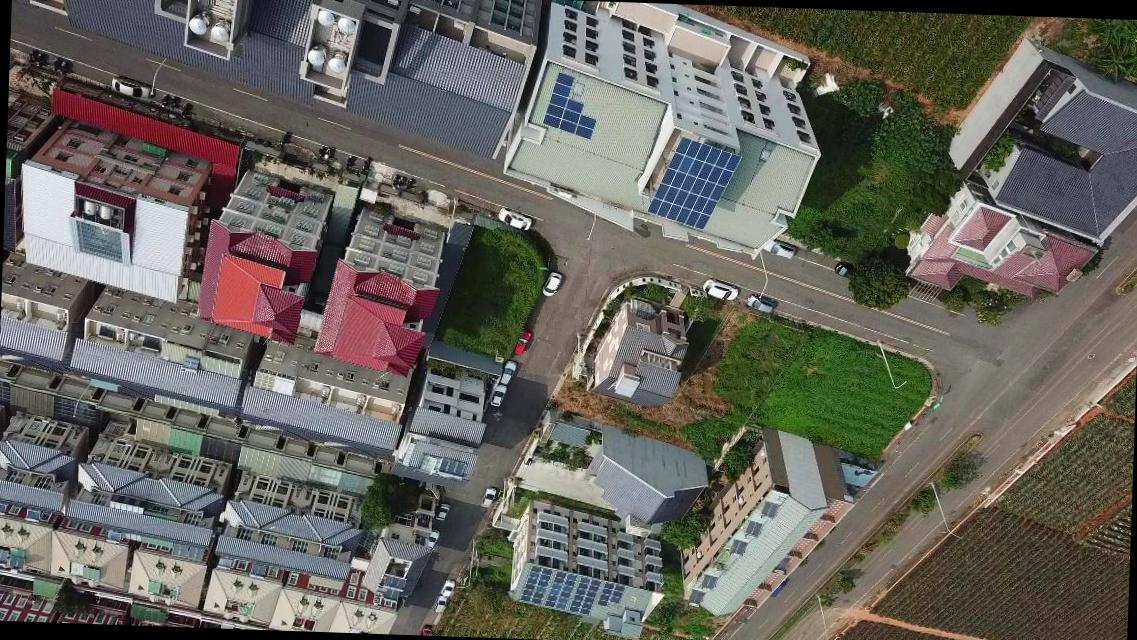vehicle: (110, 76, 152, 100), (702, 278, 740, 300), (496, 207, 532, 230), (763, 240, 797, 260), (745, 295, 776, 313), (542, 270, 562, 296), (512, 330, 528, 358), (478, 486, 496, 510), (498, 360, 516, 384), (770, 576, 788, 599), (490, 383, 506, 407), (833, 261, 851, 279), (426, 528, 438, 552), (434, 502, 448, 522), (440, 580, 454, 597), (434, 594, 447, 612), (420, 624, 432, 634)
